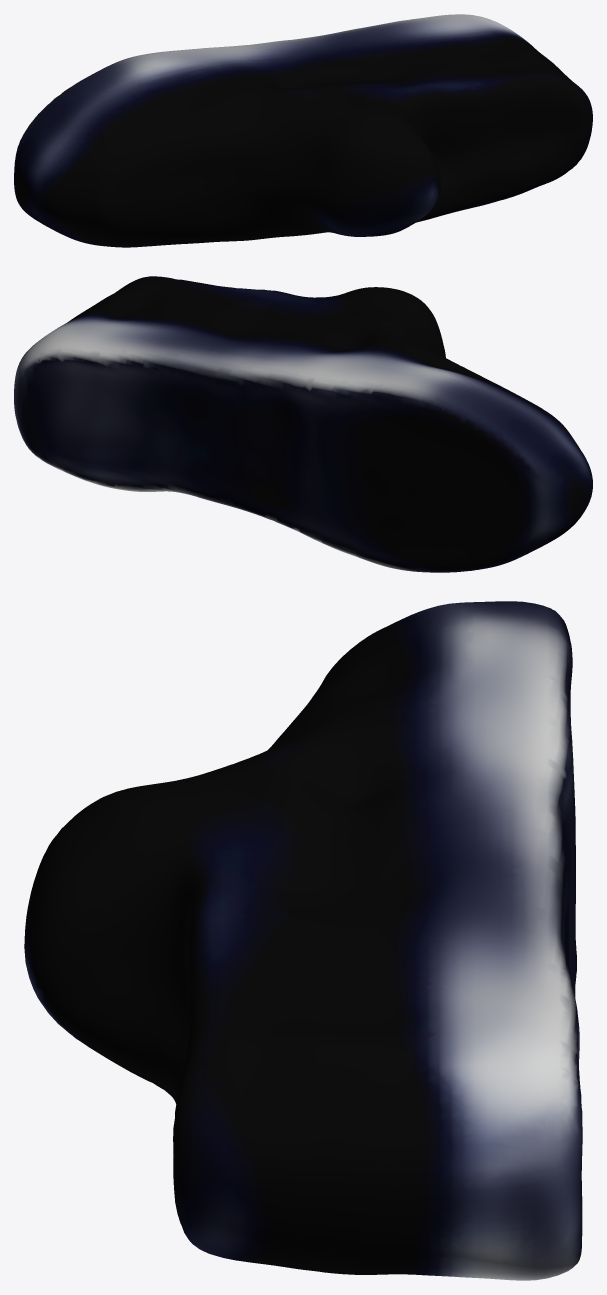
The model's file is shoe.glb.
The picture shows the model from 3 angles, top to bottom: view 1: azimuth 30°, elevation 25°; view 2: azimuth 150°, elevation 25°; view 3: azimuth 270°, elevation 25°; orthographic projection. The views are drawn at different scales.
Size of the model in its own units: 0.9998 by 0.3271 by 0.4666.
